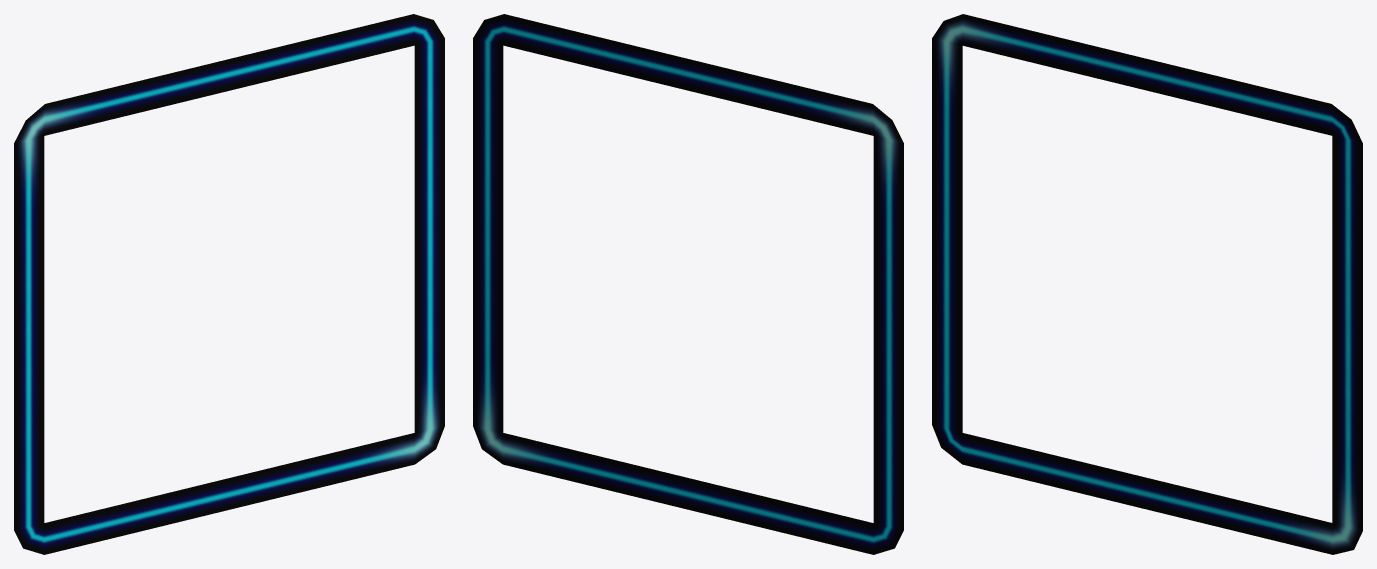
The model's file is effect_UIkuang.fbx.
3 views of the same model, side by side, from view 1: azimuth 30°, elevation 25°; view 2: azimuth 150°, elevation 25°; view 3: azimuth 330°, elevation 25° (orthographic).
Parts seen in each view (by area): view 1: pTorus1; view 2: pTorus1; view 3: pTorus1.
Part boxes in pixels (x1,y1,x2,y2): pTorus1: (14, 14, 444, 554); pTorus1: (473, 14, 903, 554); pTorus1: (932, 14, 1362, 554).
Size of the model in its own units: 177 by 177 by 0.1106.
Materials: 1 (1 with a texture image).
